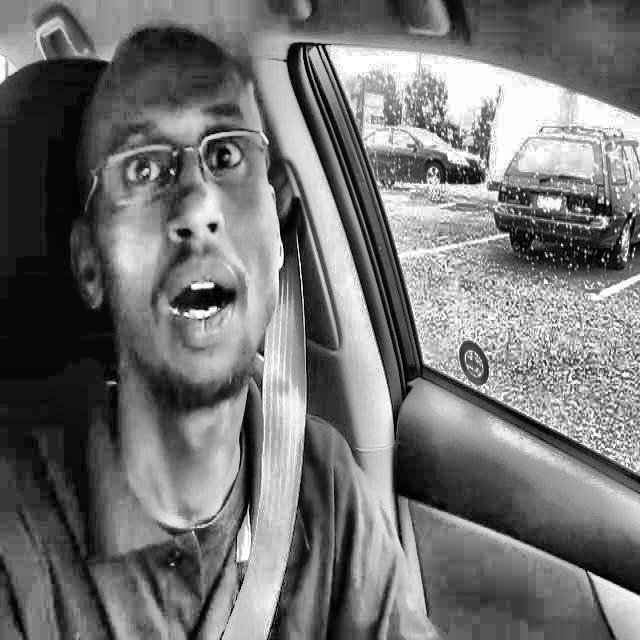open_eyes: (110, 147, 176, 204), (195, 126, 261, 183)
open_mouth: (143, 250, 258, 371)
